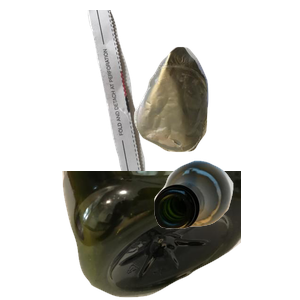glass: (151, 158, 300, 300)
paper: (85, 10, 224, 190)
plastic: (60, 171, 300, 300)
trash: (131, 44, 300, 189)
